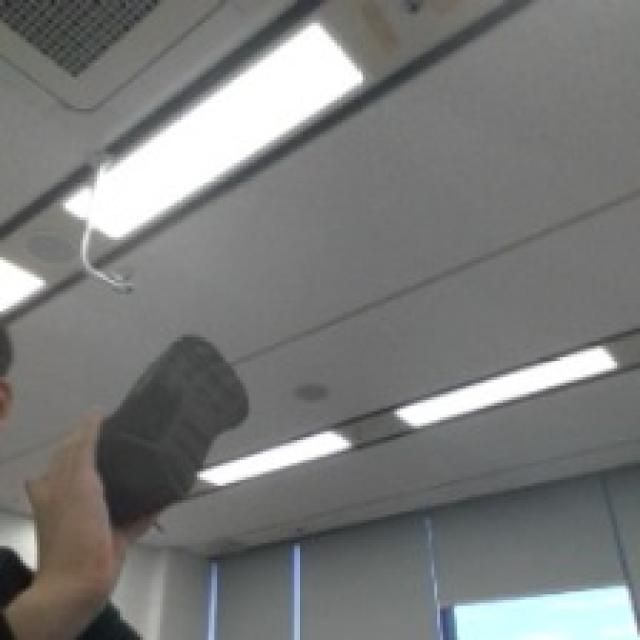shoe: (100, 316, 272, 526)
